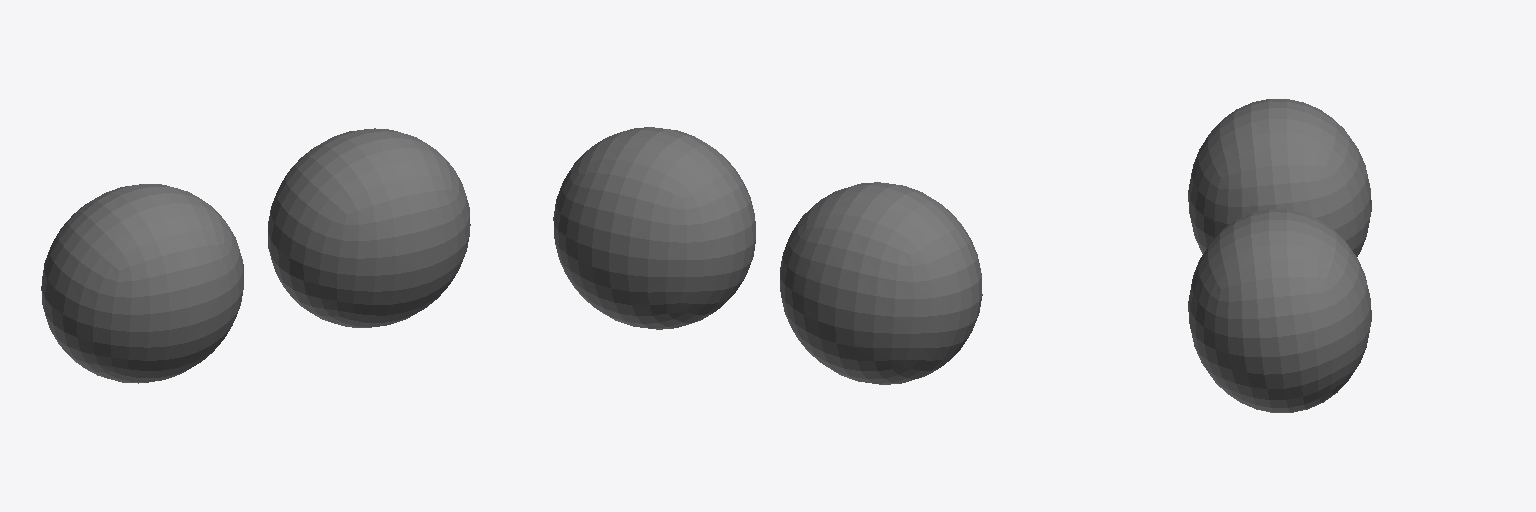
File: LowPoly_Bibliotecaria_Olhos.obj
3 views of the same model, side by side, from view 1: azimuth 30°, elevation 25°; view 2: azimuth 150°, elevation 25°; view 3: azimuth 270°, elevation 25° (orthographic).
Parts seen in each view (by area): view 1: LowPoly_Bibliotecaria_Olhos; view 2: LowPoly_Bibliotecaria_Olhos; view 3: LowPoly_Bibliotecaria_Olhos.
Part boxes in pixels (x1,y1,x2,y2): LowPoly_Bibliotecaria_Olhos: (41, 128, 470, 383); LowPoly_Bibliotecaria_Olhos: (553, 127, 982, 384); LowPoly_Bibliotecaria_Olhos: (1188, 99, 1371, 412).
Bounding box in the file's own units: 11.08 × 4.78 × 4.32.